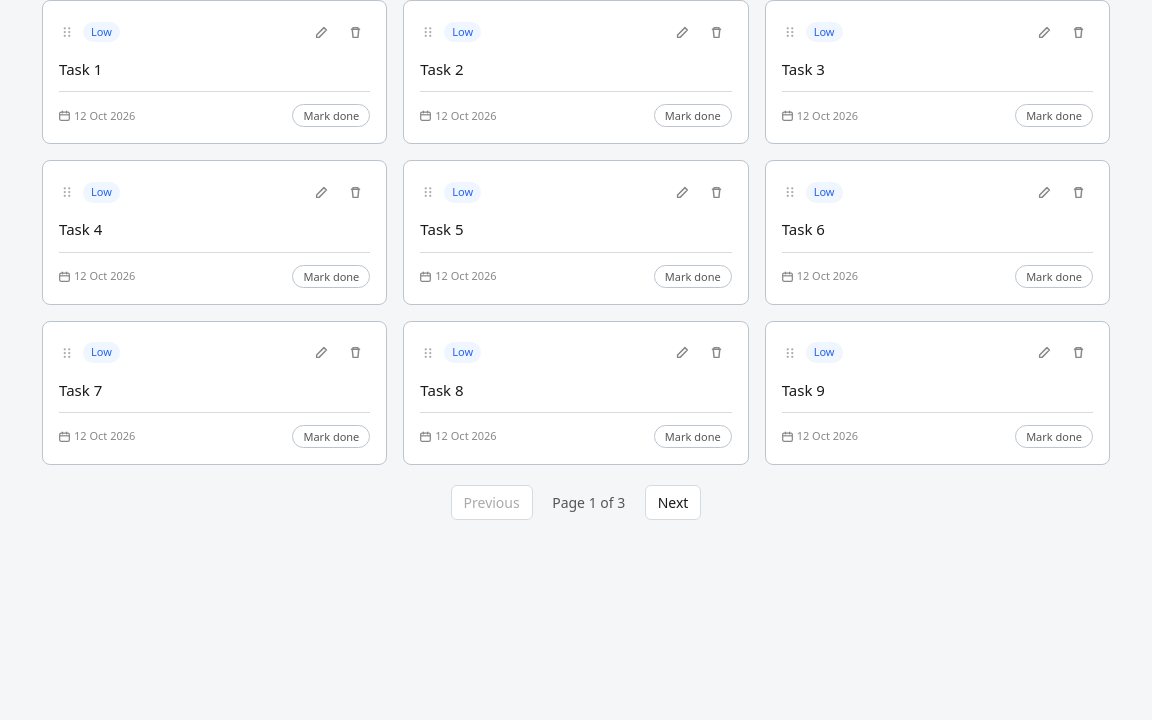
Test case: TaskList in card view › shows nine tasks per page and navigates to the next page
The image size is (1152, 720).
Expected: the heading "Task 1" is shown, [59, 59, 102, 79]
Expected: the heading "Task 9" is shown, [782, 380, 825, 400]
Click the button "Next" at (673, 502), box [645, 485, 701, 520]
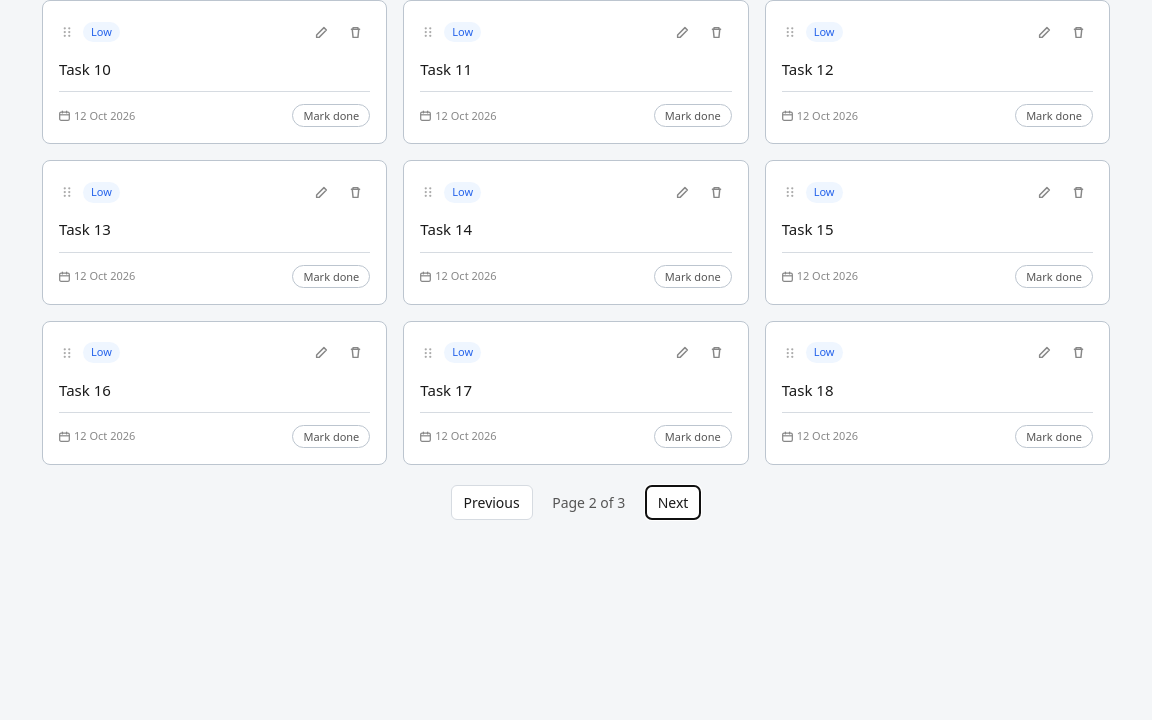
Result: the heading "Task 10" is shown at [59, 59, 111, 79]
Result: the heading "Task 18" is shown at [782, 380, 834, 400]
Result: the heading "Task 9" is gone
